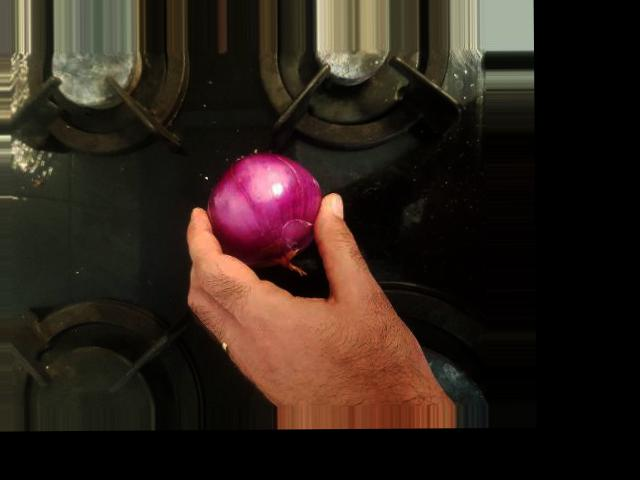onion: (110, 91, 231, 213)
